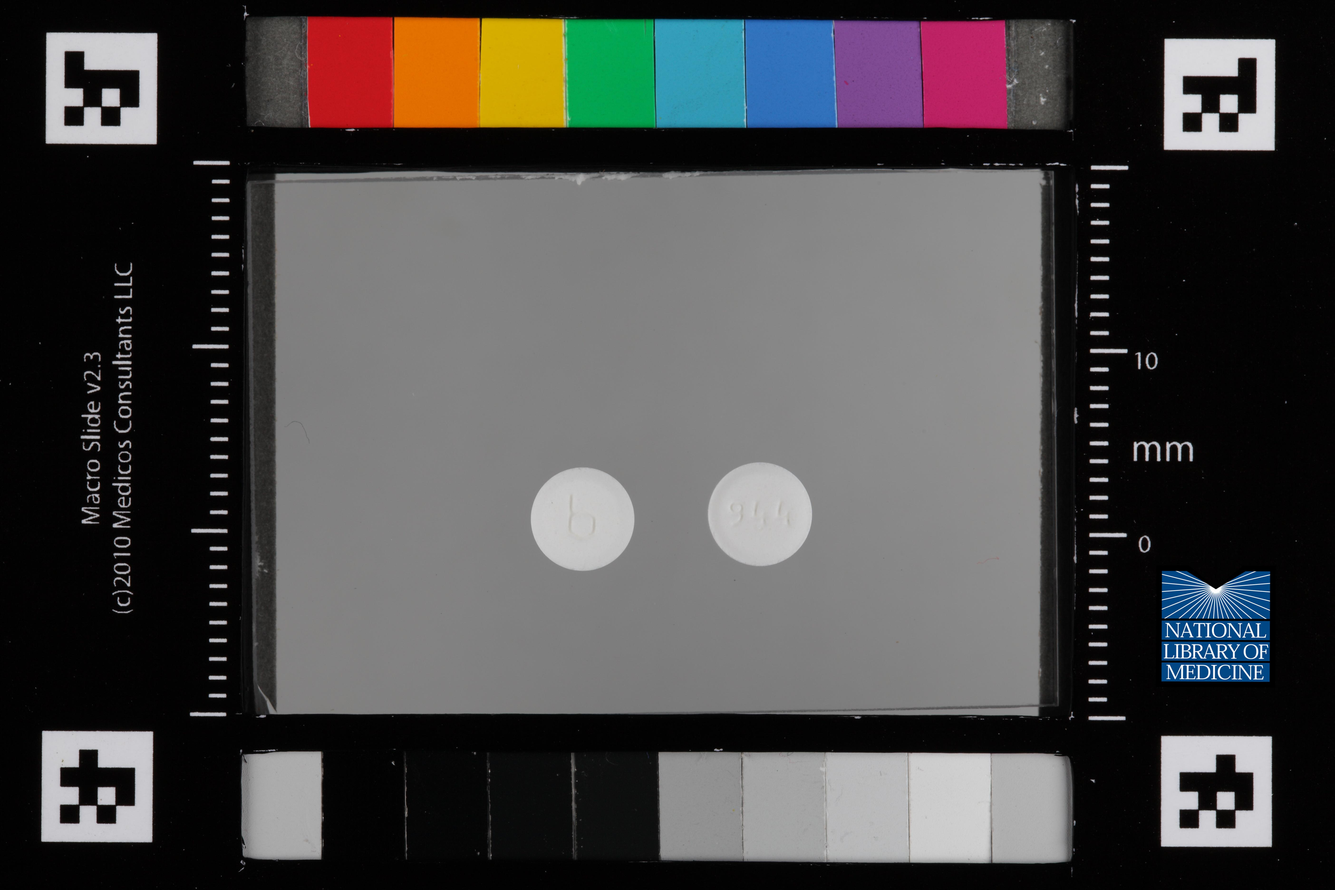Pill: (699, 456, 820, 574), (528, 461, 638, 579)
